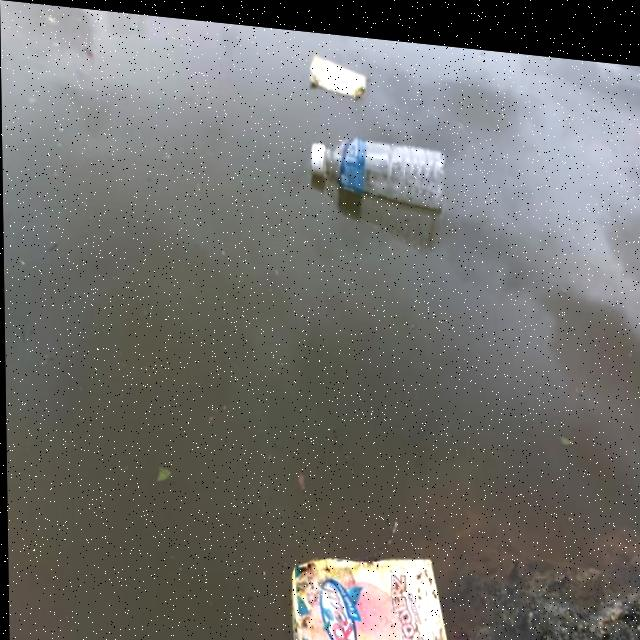paper: (262, 534, 466, 640), (295, 41, 379, 106)
waterbottle: (300, 124, 452, 224)
